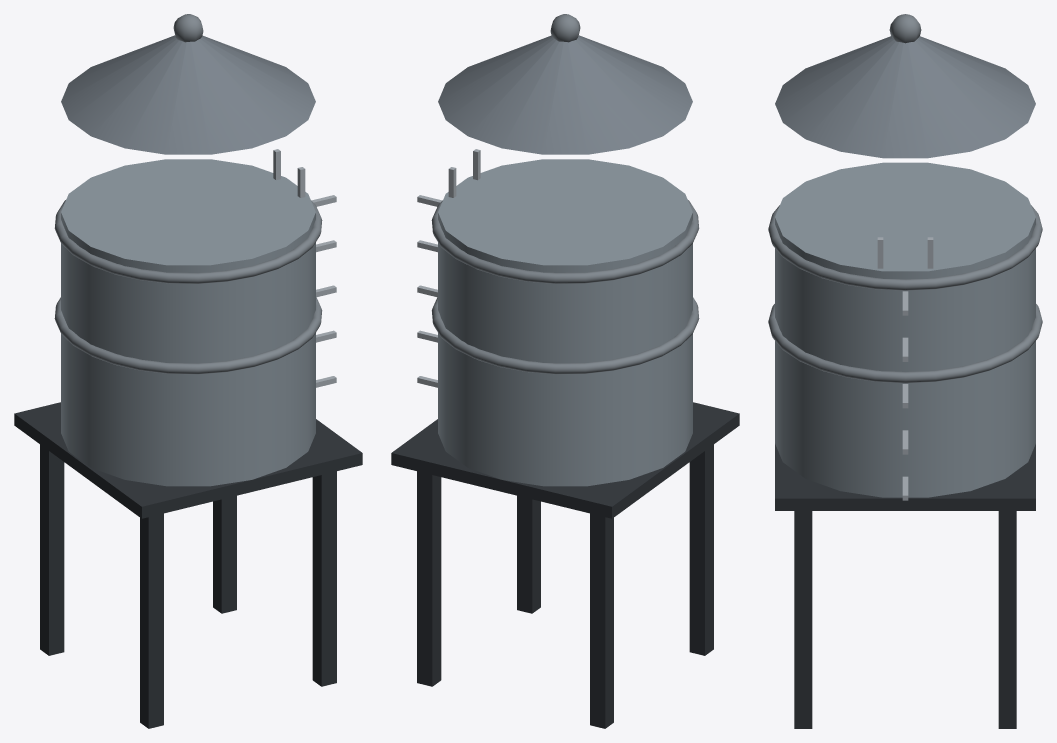
The model's file is water-tank.glb.
3 views of the same model, side by side, from view 1: azimuth 30°, elevation 25°; view 2: azimuth 150°, elevation 25°; view 3: azimuth 270°, elevation 25° (orthographic). The views are drawn at different scales.
Visible parts, largest first — view 1: water-tank; view 2: water-tank; view 3: water-tank.
Boxes of the visible parts, bbox=[...] form: water-tank: bbox=[14, 14, 362, 728]; water-tank: bbox=[391, 14, 739, 728]; water-tank: bbox=[768, 14, 1042, 728].
Bounding box in the file's own units: 2.74 × 6.48 × 2.42.
